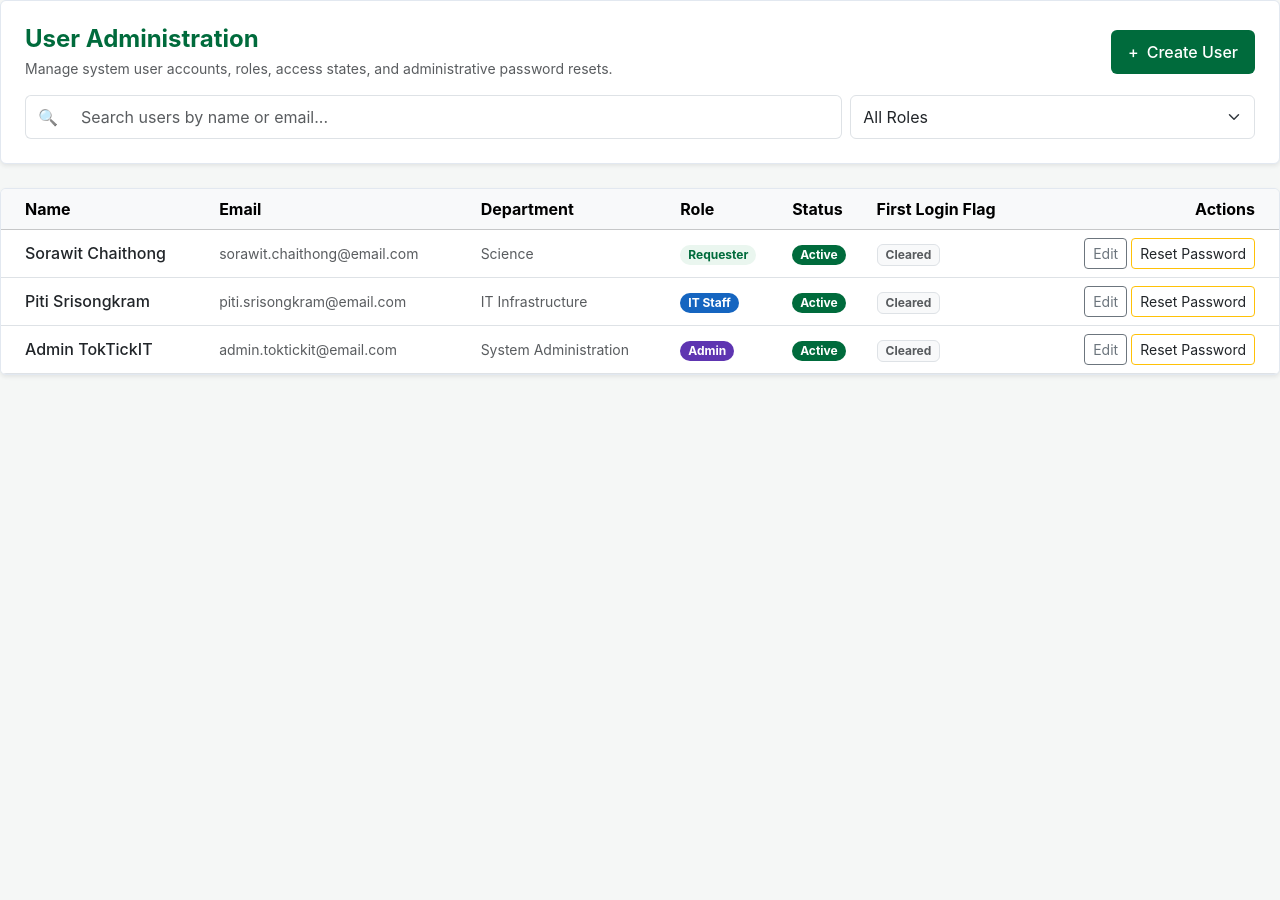
Test: UserManagement Component (UI-07 / AC-20..22, BR-16..21) › UI-07: opens Edit User modal, updates profile attributes, and handles safety warning
The width and height of the screenshot is (1280, 900).
Click the button with test id "btn-edit-user-1" at (1106, 253), box [1084, 238, 1127, 269]
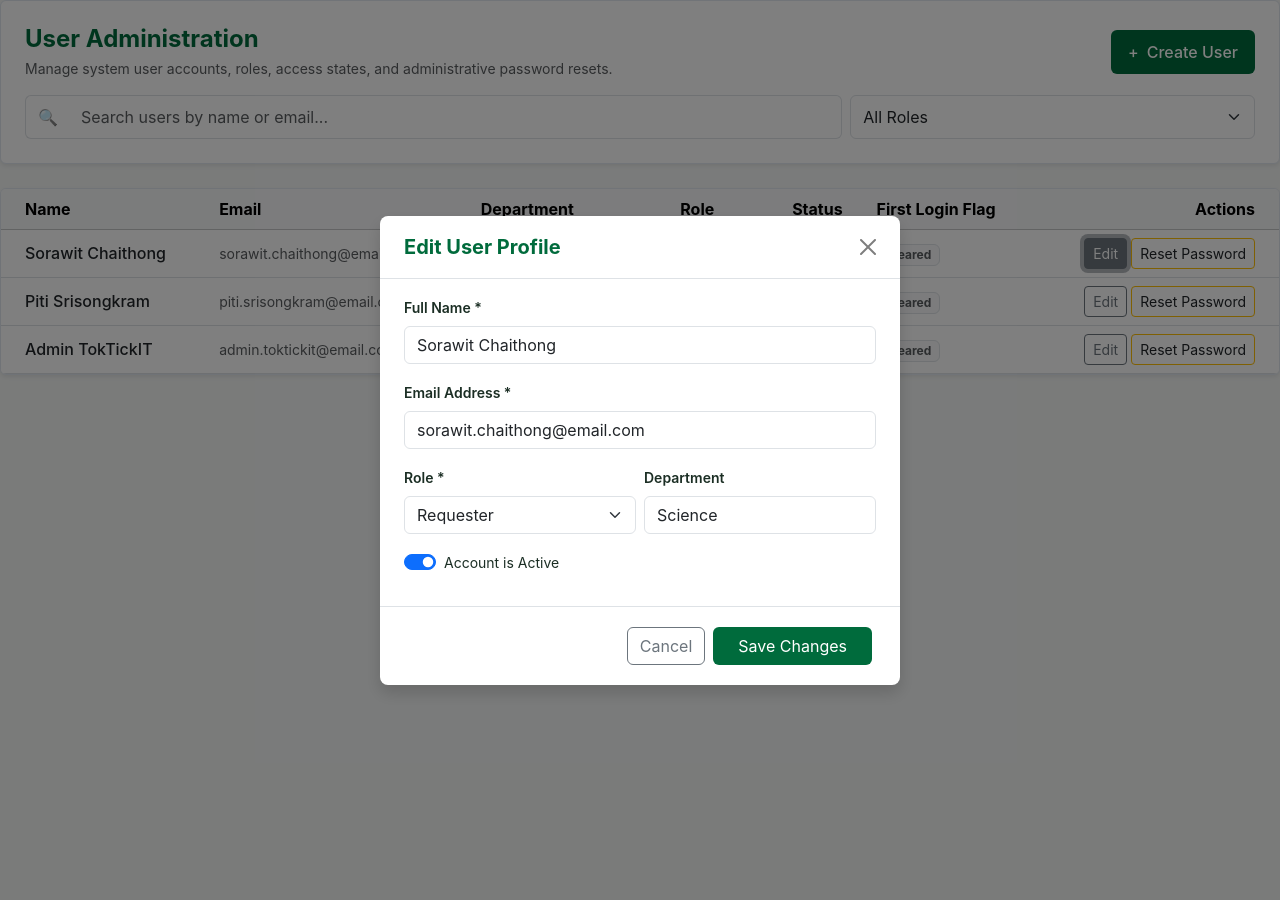
expect the heading "Edit User Profile" is shown: met, box [404, 232, 561, 262]
expect the field with test id "edit-user-fullname" holds "Sorawit Chaithong": met
Replace the text in the field with test id "edit-user-fullname" with "Sorawit Updated" at (640, 344), box [404, 326, 876, 364]
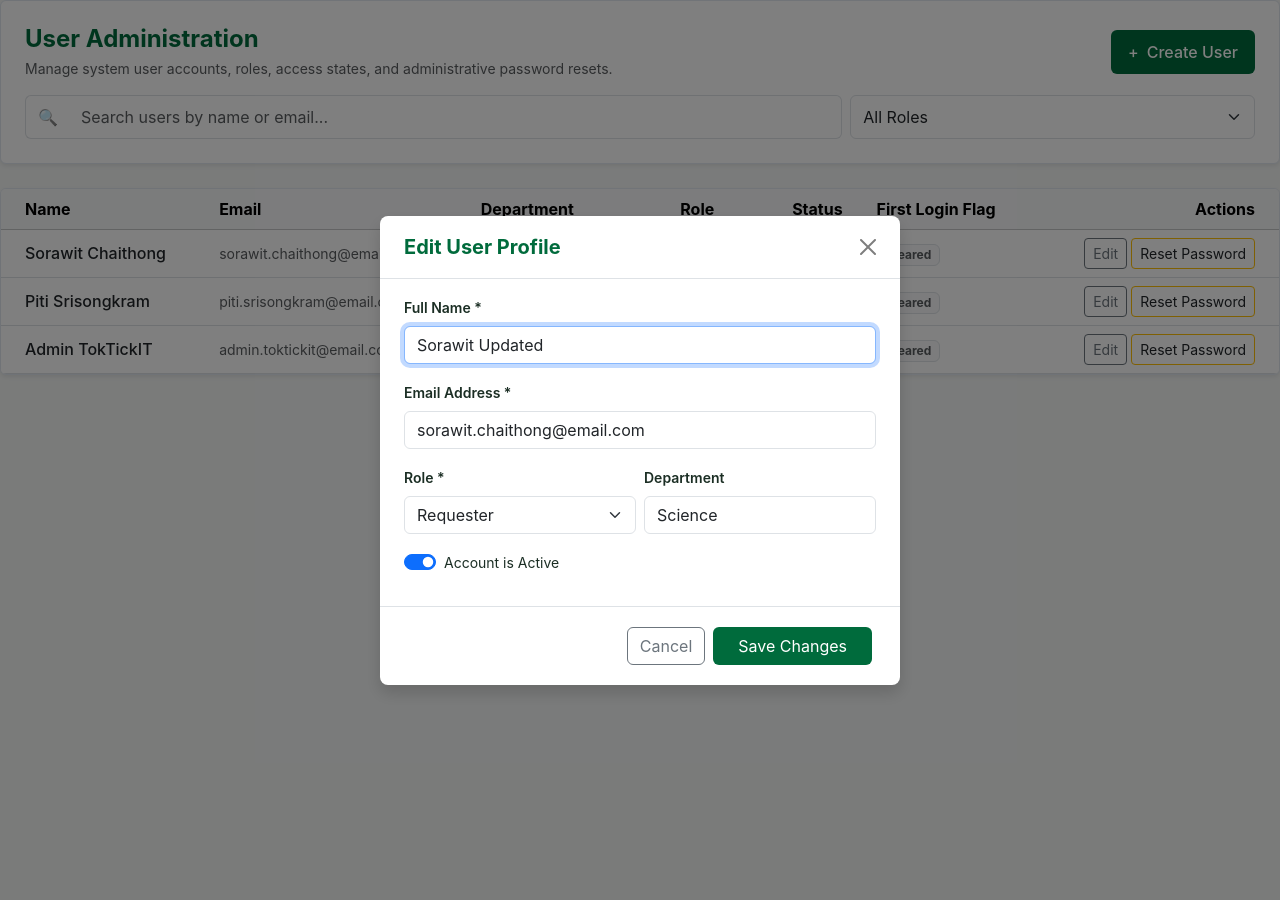
Click the button with test id "btn-submit-edit-user" at (793, 646), box [713, 626, 872, 664]
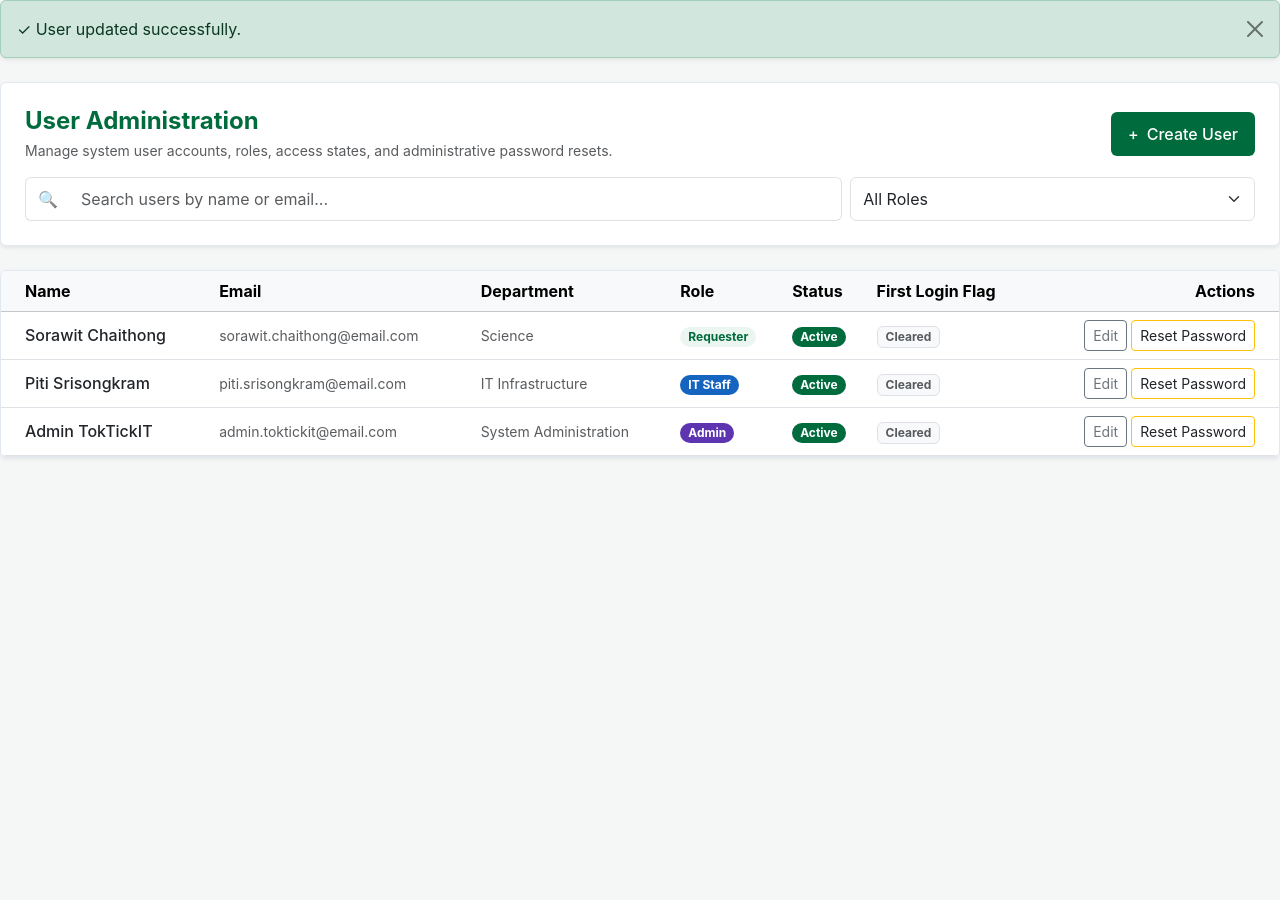
expect the message with test id "admin-success-alert" shows "User updated successfully.": met, box [36, 19, 241, 39]
